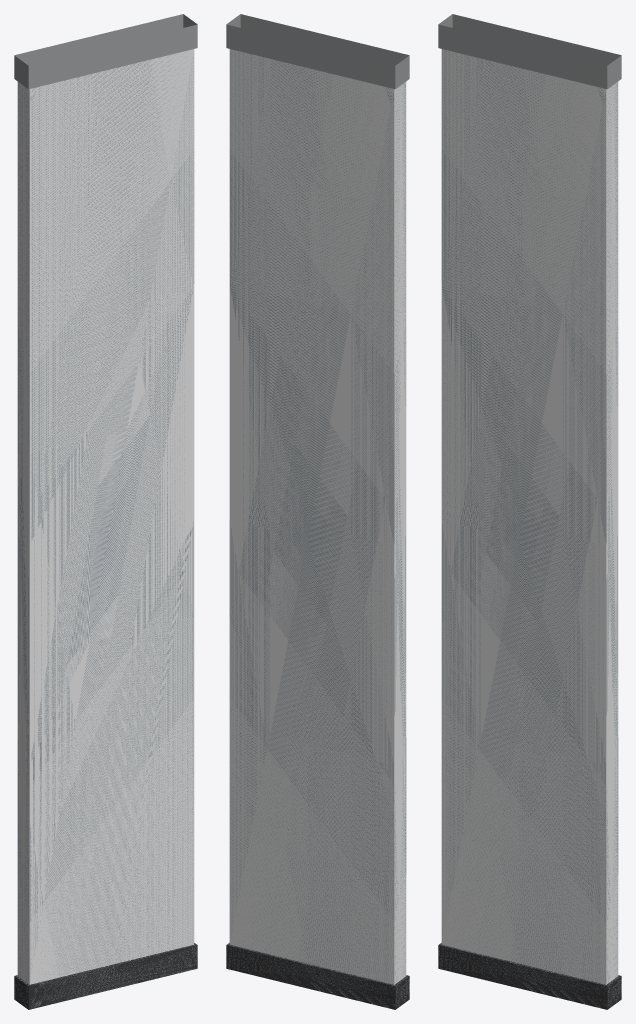
File: Column_ds_plinth_075x010x4.dae
The picture shows the model from 3 angles, left to right: view 1: azimuth 30°, elevation 25°; view 2: azimuth 150°, elevation 25°; view 3: azimuth 330°, elevation 25°; orthographic projection.
Parts seen in each view (by area): view 1: group_0 (×3); view 2: group_0 (×3); view 3: group_0 (×3).
Boxes of the visible parts, box(x1,y1,x2,y2) form: group_0 (×3): box(14, 14, 197, 1009); group_0 (×3): box(226, 14, 409, 1009); group_0 (×3): box(438, 14, 621, 1009).
Bounding box in the file's own units: 29.53 × 4.33 × 157.
